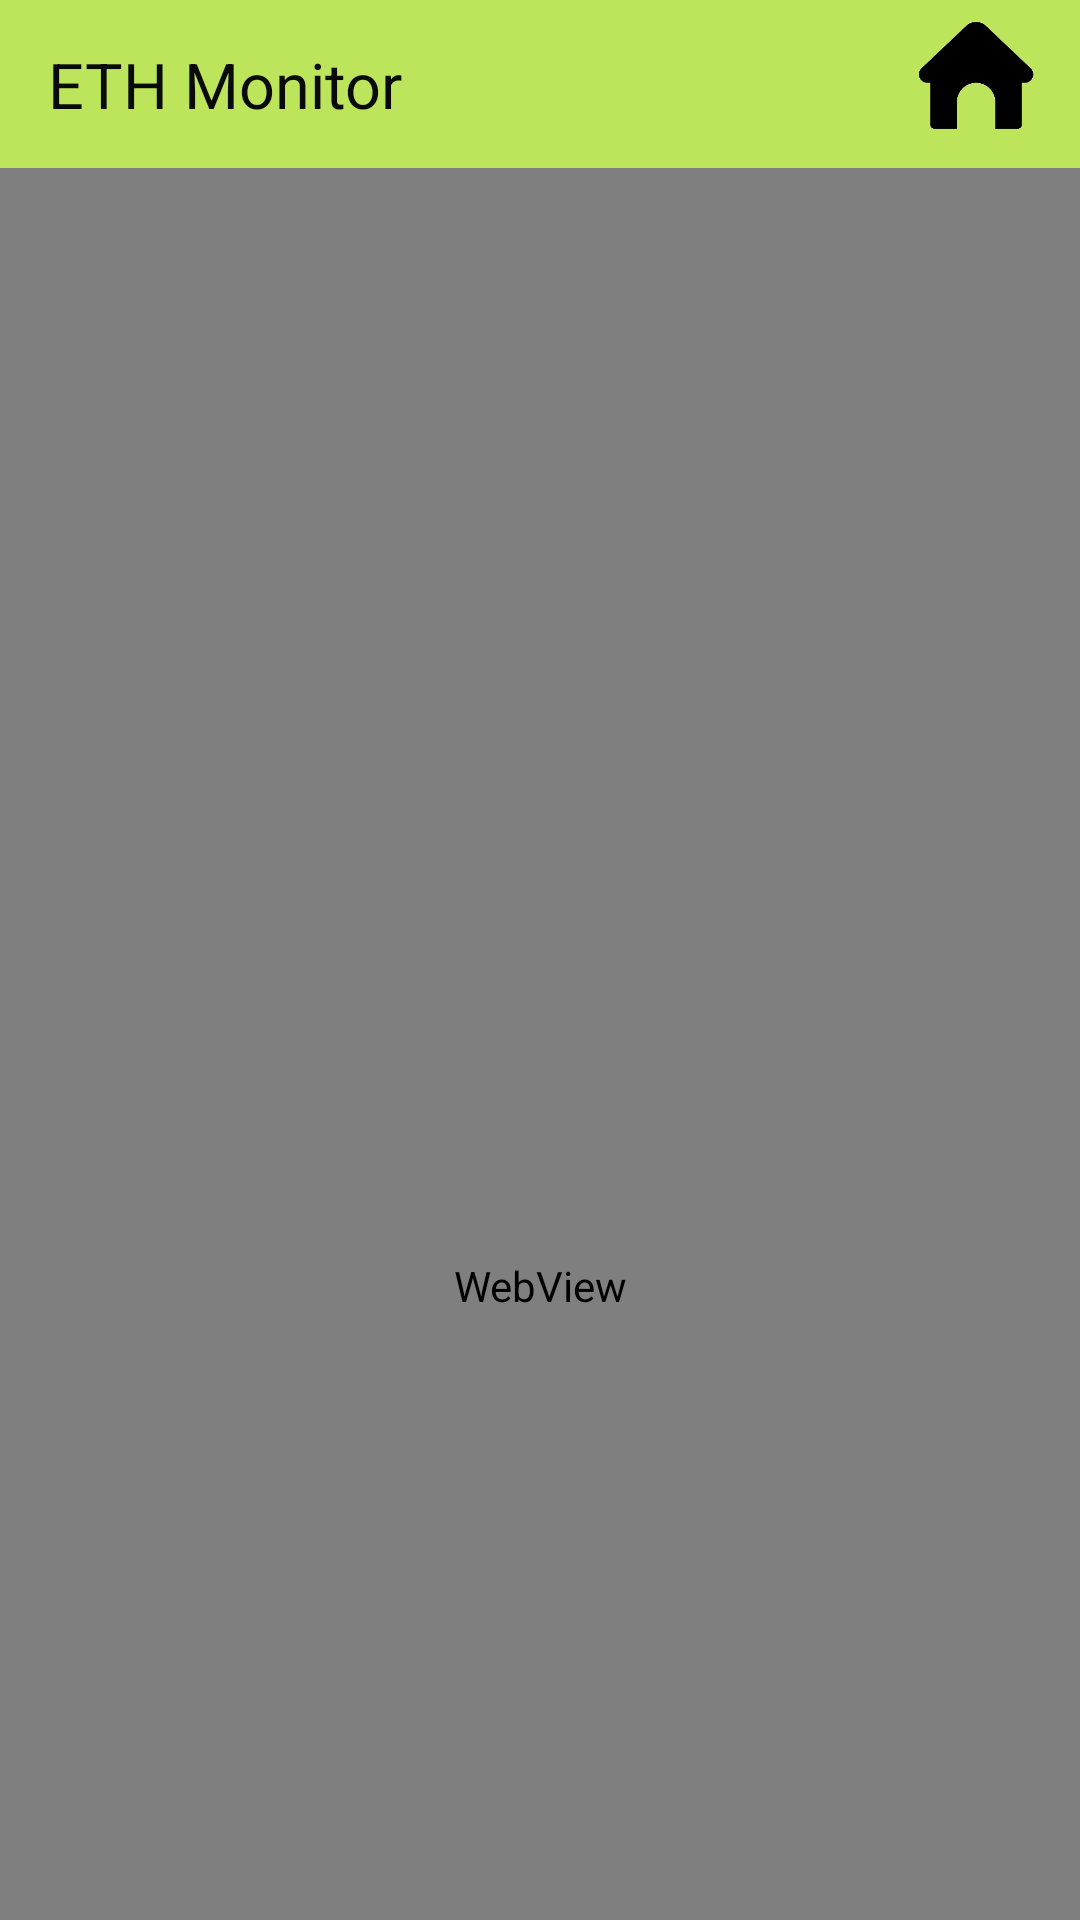

Icons on this 1080px x 1920px Android screen, each with the point to tap as (x,y):
home: (976,75)
